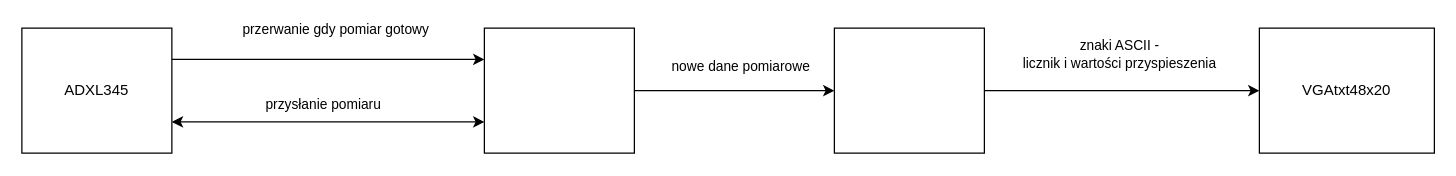
The diagram is 1456 pixels wide and 176 high, and some of its shapes have lost their labels. The centre of each missing label's shape, as x and y in pixels:
adxl345_i2c: the point at 558,90
vga_txt_driver: the point at 908,90
